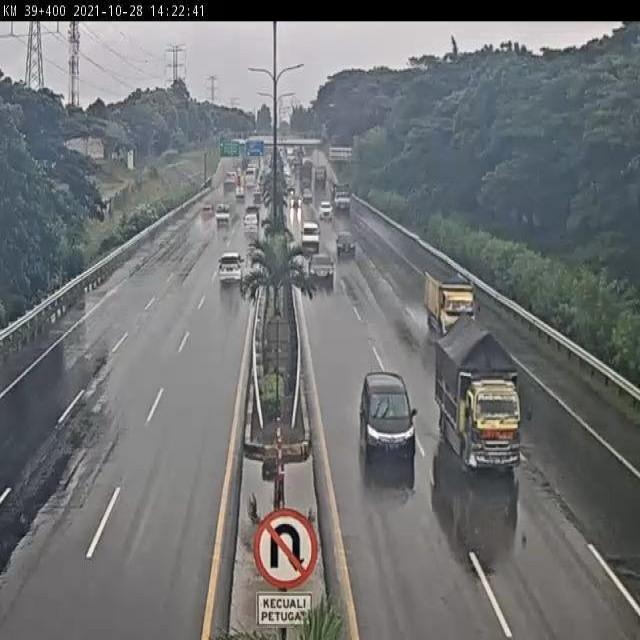truck-s-: (434, 310, 533, 473), (424, 268, 483, 340)
